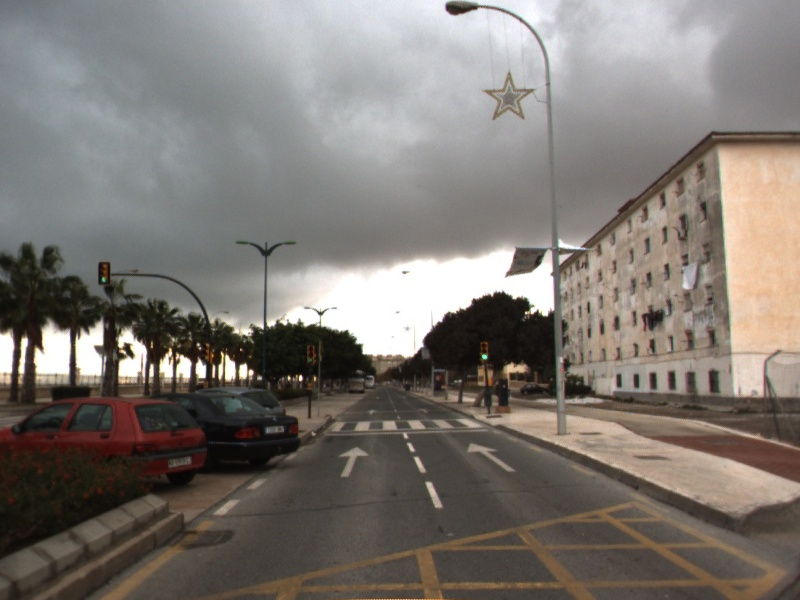STRAIGHT: (466, 441, 519, 473), (336, 445, 372, 479)
